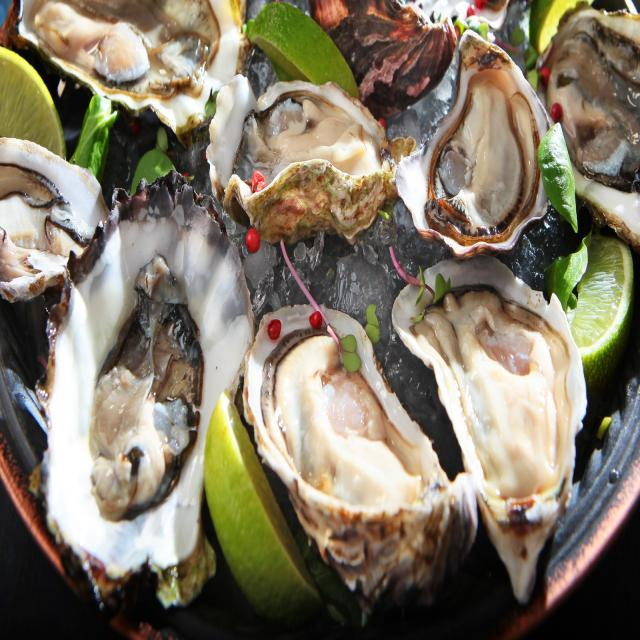Oyster- Indeterminate: (314, 0, 456, 118)
Oyster-Open: (0, 140, 252, 607), (242, 304, 476, 613), (392, 258, 586, 603), (206, 75, 414, 242), (402, 31, 549, 256), (19, 0, 246, 134), (539, 6, 640, 192), (0, 136, 108, 302)
